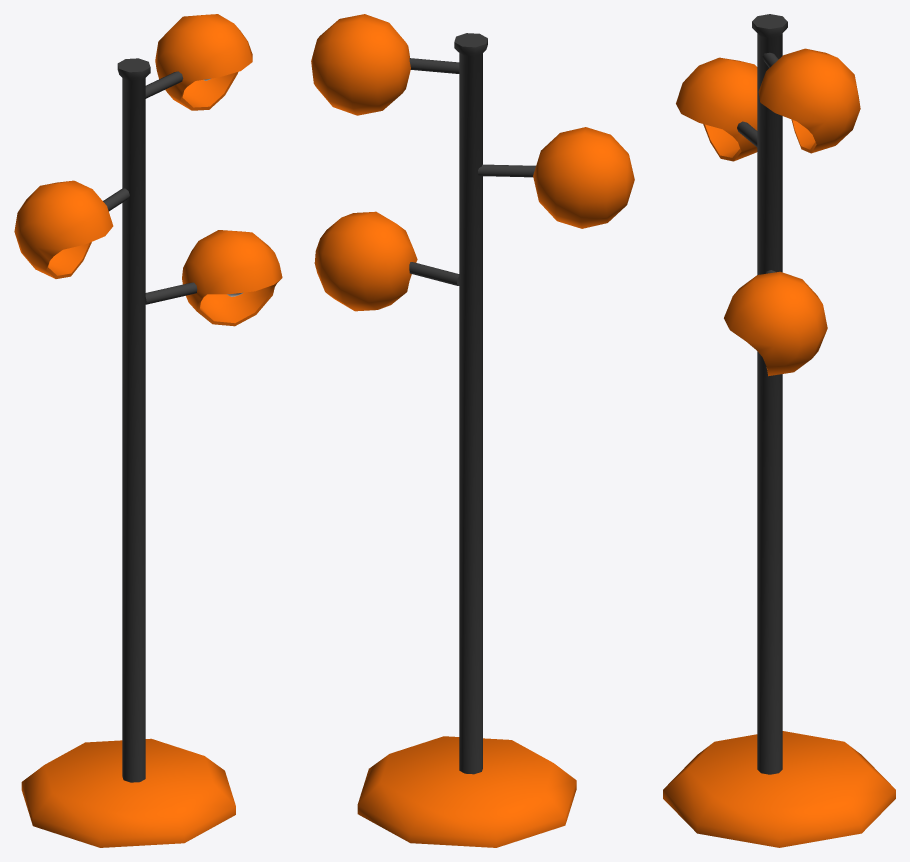
The model's file is Floor_Lamp_02.FBX.
3 renders of one model, left to right at view 1: azimuth 30°, elevation 25°; view 2: azimuth 150°, elevation 25°; view 3: azimuth 270°, elevation 25°, orthographic. The views are drawn at different scales.
Visible parts, largest first — view 1: Floor_Lamp; view 2: Floor_Lamp; view 3: Floor_Lamp.
Boxes of the visible parts, x1,y1,x2,y2 form: Floor_Lamp: [14, 14, 282, 847]; Floor_Lamp: [311, 14, 634, 847]; Floor_Lamp: [663, 14, 895, 847].
Bounding box in the file's own units: 106 × 275 × 73.35.
